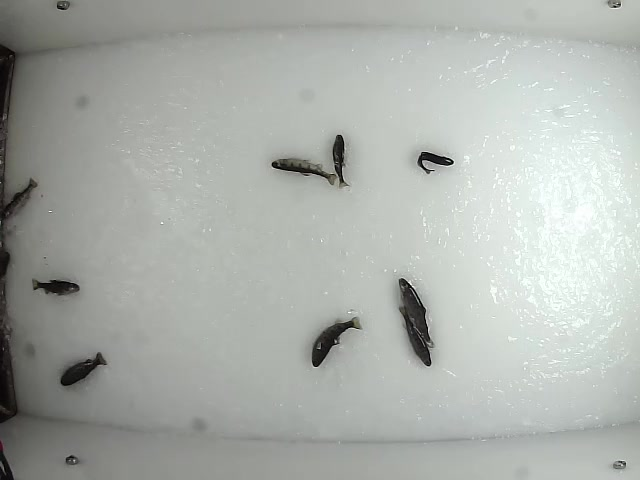fish: (309, 313, 364, 369), (396, 278, 435, 351), (397, 304, 434, 368), (269, 156, 339, 186), (57, 351, 109, 389), (1, 176, 39, 221), (332, 131, 352, 189), (30, 276, 82, 296), (416, 151, 456, 176)
